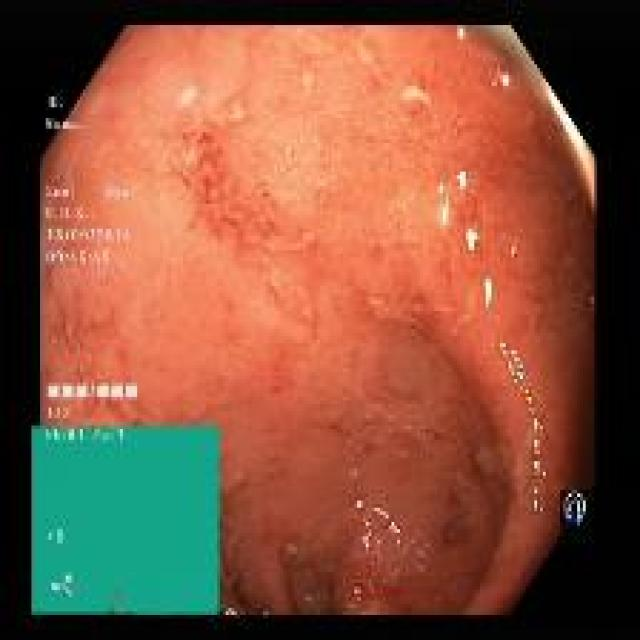ulcerative-colitis: (42, 27, 595, 614)
